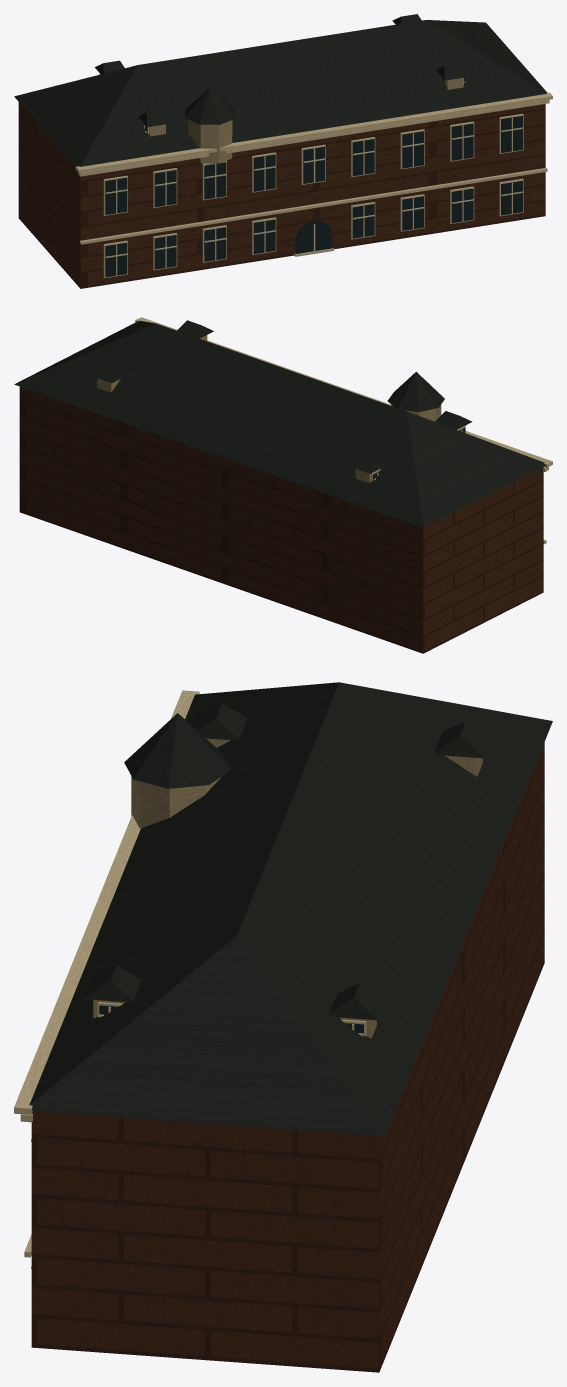
The picture shows the model from 3 angles, top to bottom: view 1: azimuth 30°, elevation 25°; view 2: azimuth 150°, elevation 25°; view 3: azimuth 270°, elevation 25°; orthographic projection. The views are drawn at different scales.
Parts seen in each view (by area): view 1: hofje-gerrit-de-koker-2, hofje-gerrit-de-koker-1, hofje-gerrit-de-koker-4, hofje-gerrit-de-koker-3, hofje-gerrit-de-koker-0; view 2: hofje-gerrit-de-koker-2, hofje-gerrit-de-koker-1, hofje-gerrit-de-koker-3, hofje-gerrit-de-koker-0; view 3: hofje-gerrit-de-koker-1, hofje-gerrit-de-koker-2, hofje-gerrit-de-koker-3, hofje-gerrit-de-koker-0.
Part boxes in pixels (bbox=[...]): hofje-gerrit-de-koker-2: bbox=[18, 102, 545, 288]; hofje-gerrit-de-koker-1: bbox=[14, 14, 547, 166]; hofje-gerrit-de-koker-4: bbox=[99, 74, 522, 277]; hofje-gerrit-de-koker-3: bbox=[75, 78, 552, 278]; hofje-gerrit-de-koker-0: bbox=[149, 77, 463, 163]; hofje-gerrit-de-koker-2: bbox=[19, 386, 543, 653]; hofje-gerrit-de-koker-1: bbox=[14, 320, 545, 527]; hofje-gerrit-de-koker-3: bbox=[97, 317, 552, 544]; hofje-gerrit-de-koker-0: bbox=[97, 335, 465, 483]; hofje-gerrit-de-koker-1: bbox=[29, 682, 552, 1136]; hofje-gerrit-de-koker-2: bbox=[31, 742, 544, 1372]; hofje-gerrit-de-koker-3: bbox=[14, 690, 366, 1268]; hofje-gerrit-de-koker-0: bbox=[93, 738, 482, 1038].
Bounding box in the file's own units: 35.66 × 13 × 18.33.
5 materials, 5 textured.
